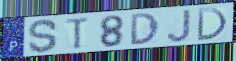8: (98, 14, 126, 48)
D: (196, 7, 229, 42), (130, 11, 161, 46)
J: (166, 8, 192, 44)
S: (27, 17, 60, 54)
T: (64, 15, 91, 50)
